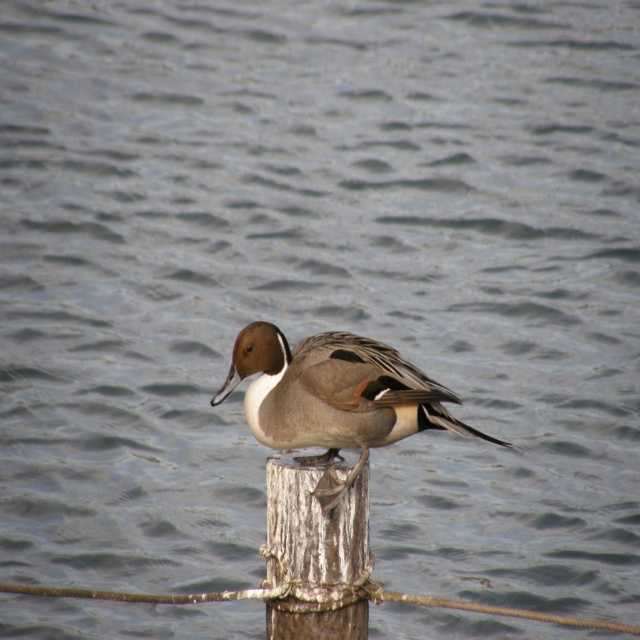Duck: (209, 320, 516, 517)
